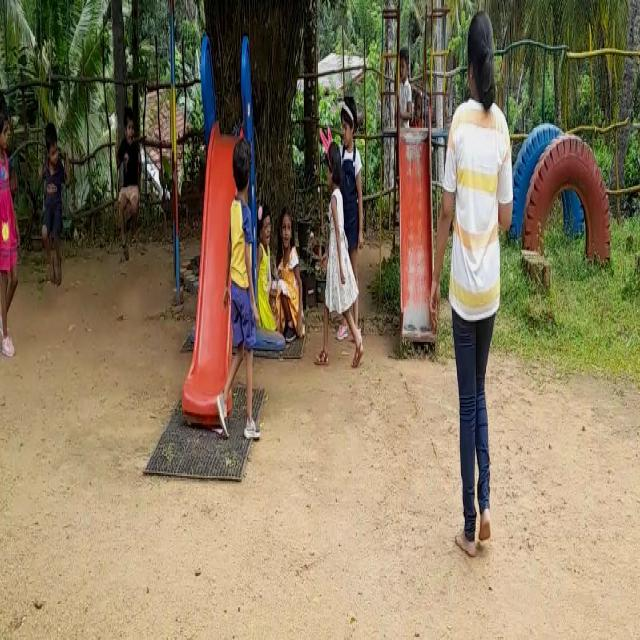adult: (428, 2, 528, 570)
child: (216, 108, 269, 451), (310, 138, 354, 391), (344, 80, 375, 290), (38, 96, 69, 290), (110, 94, 144, 270), (0, 108, 19, 365)
